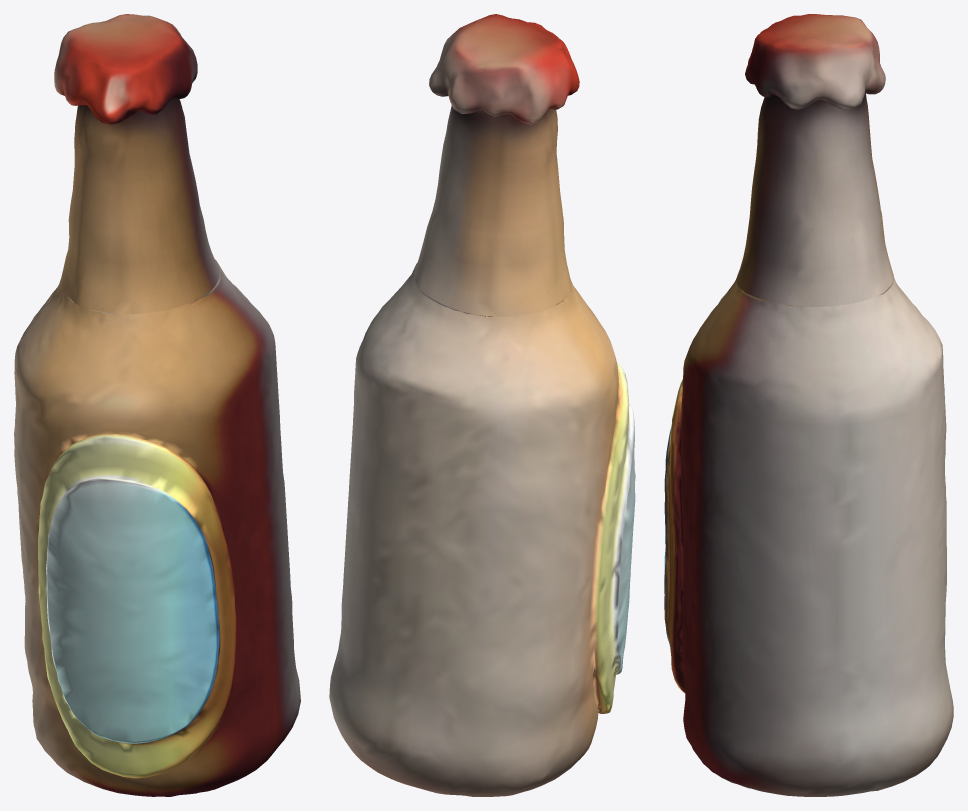
File: Stack 1A - Beer.glb
The picture shows the model from 3 angles, left to right: view 1: azimuth 30°, elevation 25°; view 2: azimuth 150°, elevation 25°; view 3: azimuth 270°, elevation 25°; orthographic projection.
Visible parts, largest first — view 1: Stack 1A - Beer · part 1, Stack 1A - Beer · part 2, Stack 1A - Beer · part 3; view 2: Stack 1A - Beer · part 1, Stack 1A - Beer · part 2, Stack 1A - Beer · part 3; view 3: Stack 1A - Beer · part 1, Stack 1A - Beer · part 2, Stack 1A - Beer · part 3.
Part boxes in pixels (x1=…): Stack 1A - Beer · part 1: x1=14, y1=259, x2=300, y2=796; Stack 1A - Beer · part 2: x1=60, y1=98, x2=219, y2=314; Stack 1A - Beer · part 3: x1=54, y1=14, x2=197, y2=124; Stack 1A - Beer · part 1: x1=329, y1=263, x2=635, y2=796; Stack 1A - Beer · part 2: x1=414, y1=105, x2=571, y2=316; Stack 1A - Beer · part 3: x1=429, y1=14, x2=579, y2=124; Stack 1A - Beer · part 1: x1=664, y1=278, x2=953, y2=796; Stack 1A - Beer · part 2: x1=736, y1=93, x2=893, y2=306; Stack 1A - Beer · part 3: x1=745, y1=14, x2=885, y2=109.
Size of the model in its own units: 0.3629 by 1 by 0.3608.
3 materials, 3 textured.
